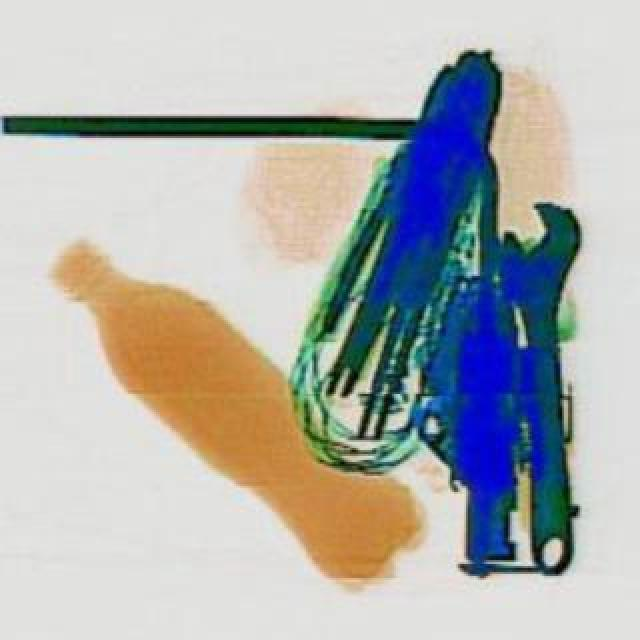scissors: (492, 198, 596, 574)
